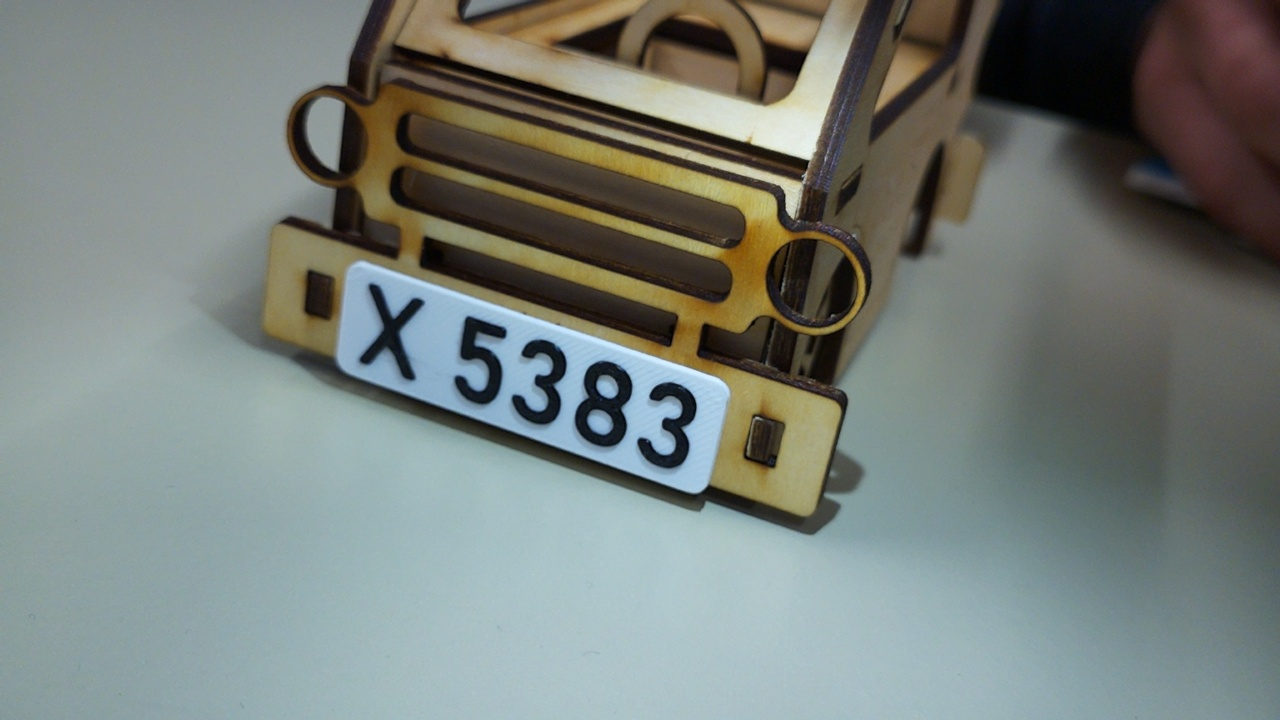license_plate: (335, 259, 732, 497)
